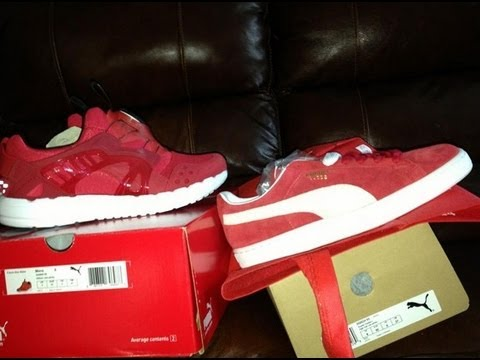Puma Suede Low Red: (213, 105, 476, 277)
